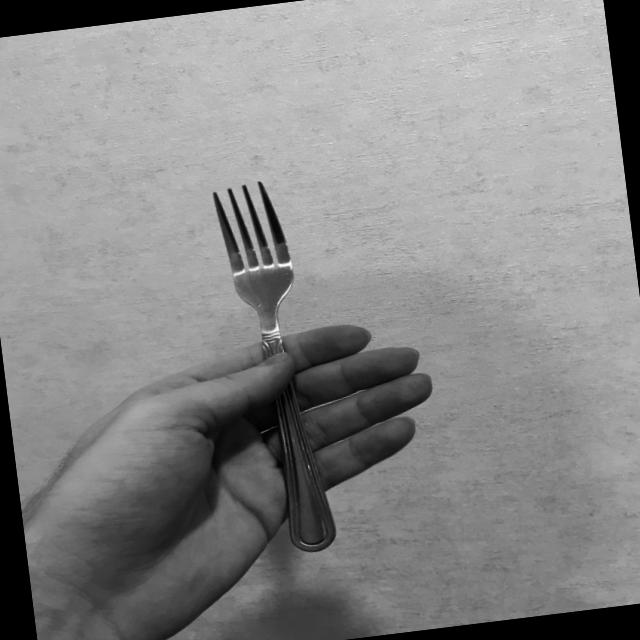fork: (203, 176, 340, 560)
